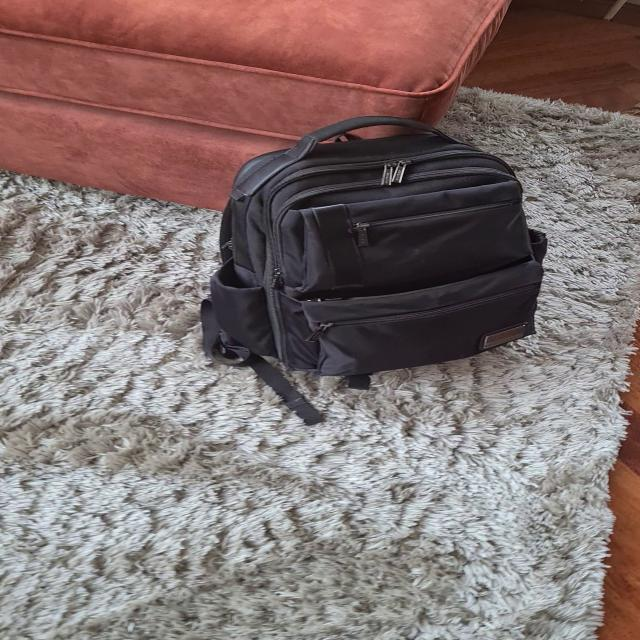backpack: (187, 110, 558, 392)
